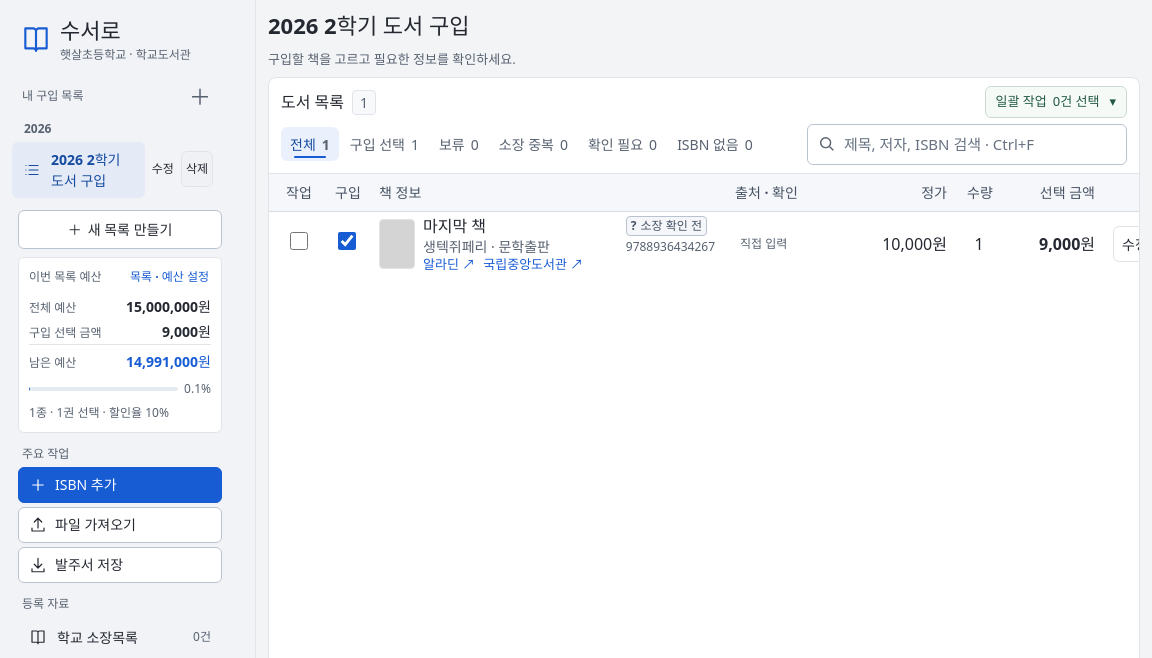
Test: keeps bulk undo available after deleting every book in a list
The image size is (1152, 658).
Expected: the button "마지막 책" is shown, [423,216,618,236]
Step 1. Click the text "일괄 작업" → coordinates (1021, 102), box [996,92,1047,112]
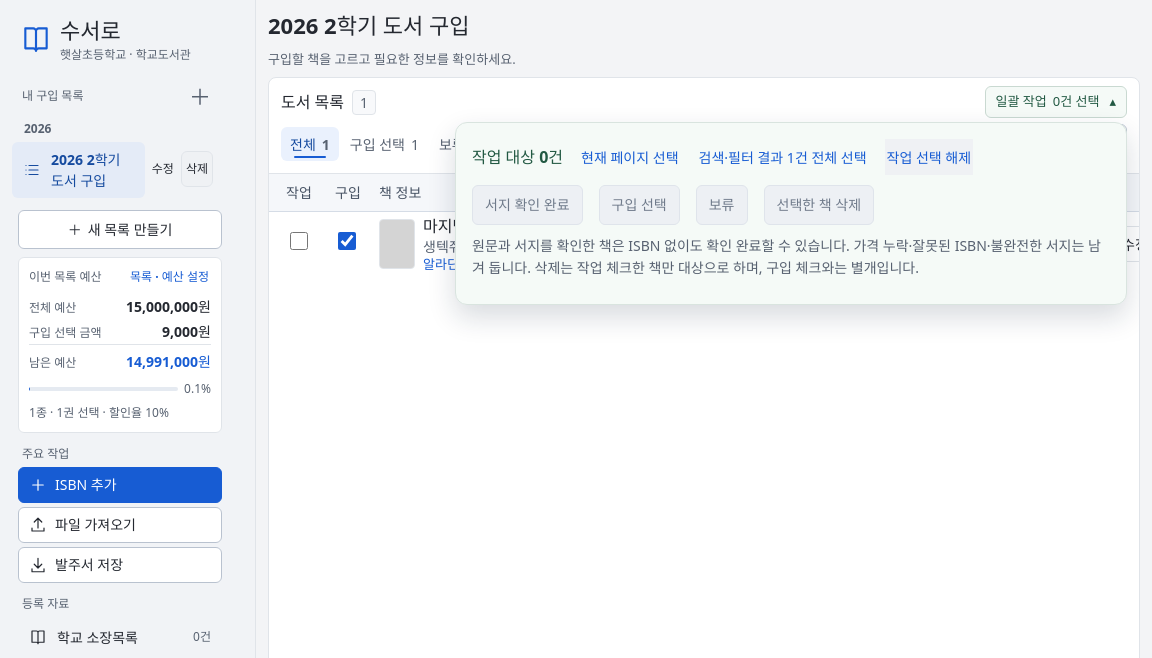
Step 2. Click the checkbox named "마지막 책 일괄 작업 선택" → coordinates (299, 241), box [290,232,308,250]
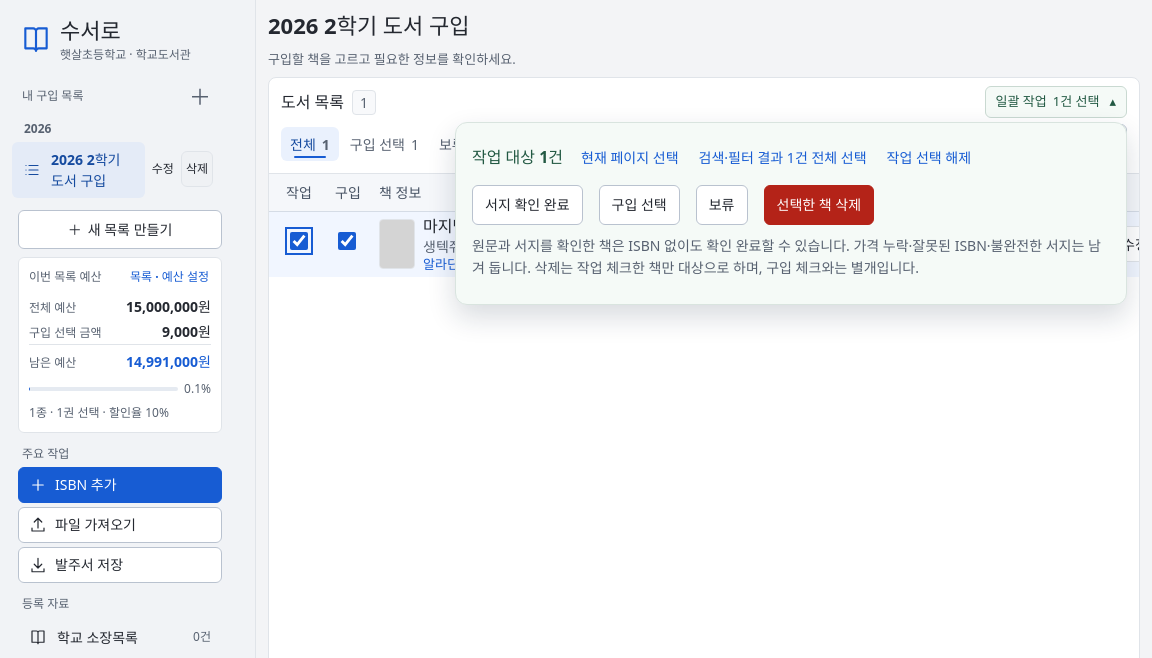
Step 3. Click the button "선택한 책 삭제" → coordinates (819, 205), box [764,185,874,225]
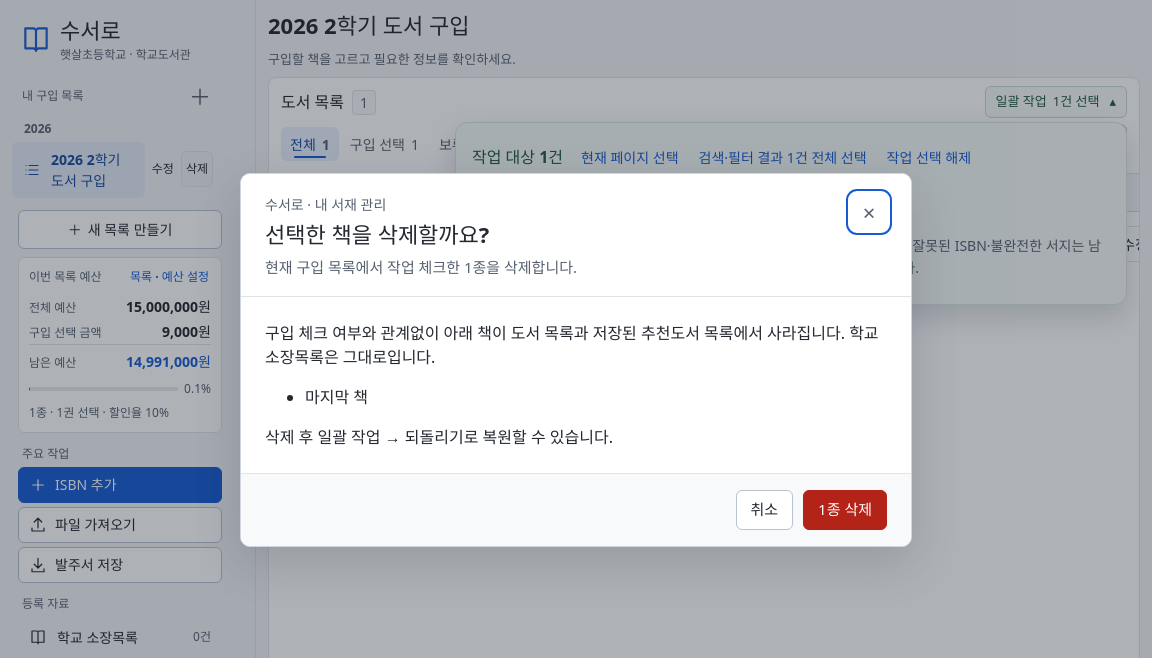
Step 4. Click the button "1종 삭제" → coordinates (845, 510), box [803,490,887,530]
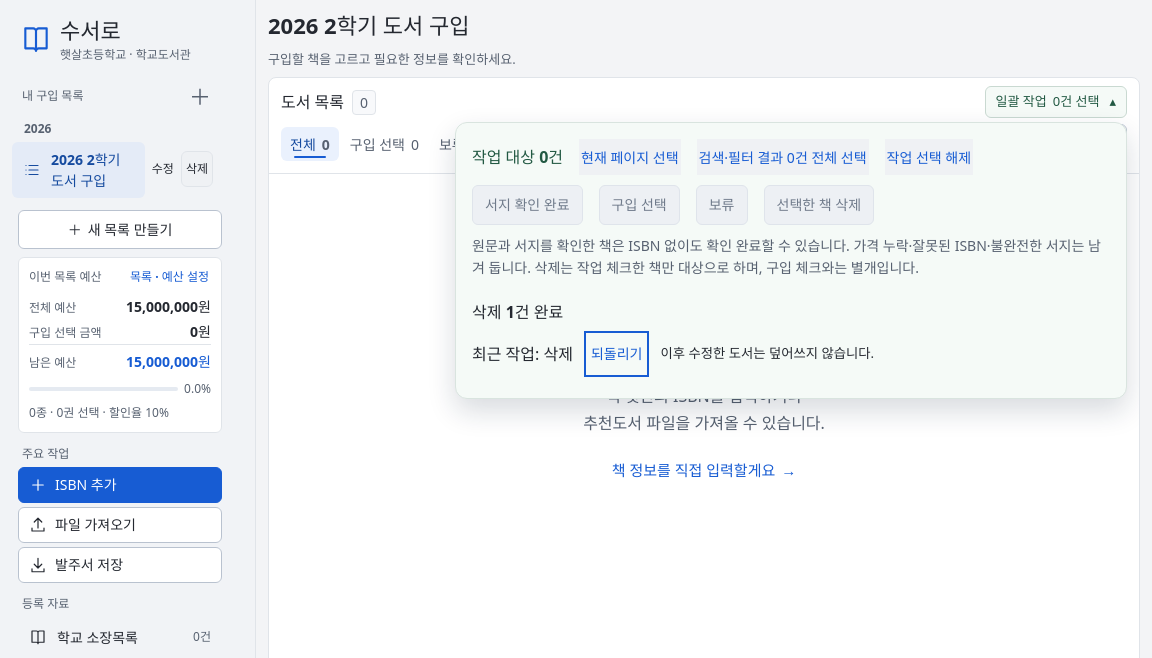
Result: the heading "도서를 추가해 목록을 시작하세요" is shown at [567,343,841,373]
Step 5. Click the button with aria-label "일괄 작업 되돌리기" → coordinates (617, 354), box [589,336,644,372]
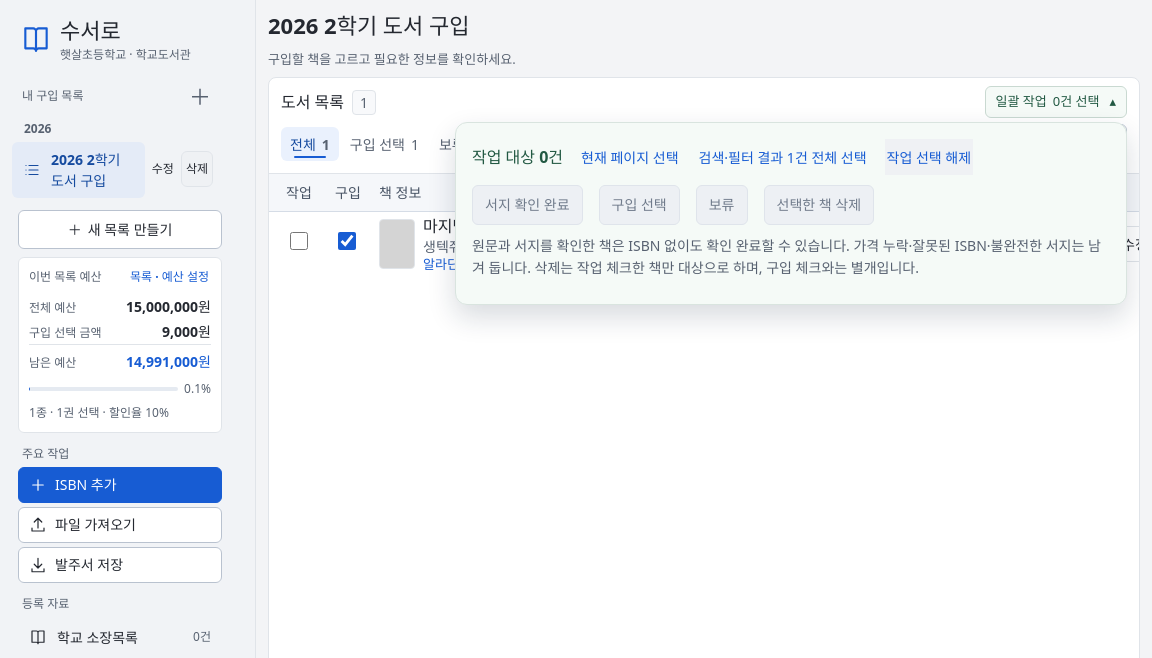
Result: the button "마지막 책" is shown at [423,216,618,236]
